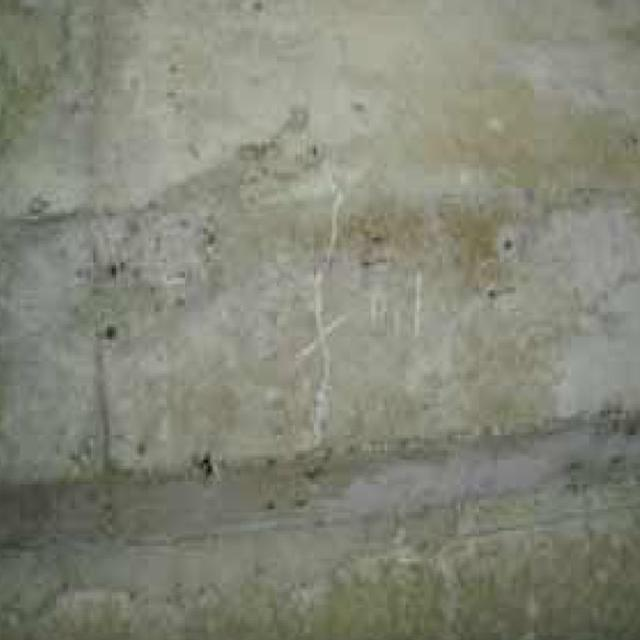crack: (306, 150, 346, 449)
